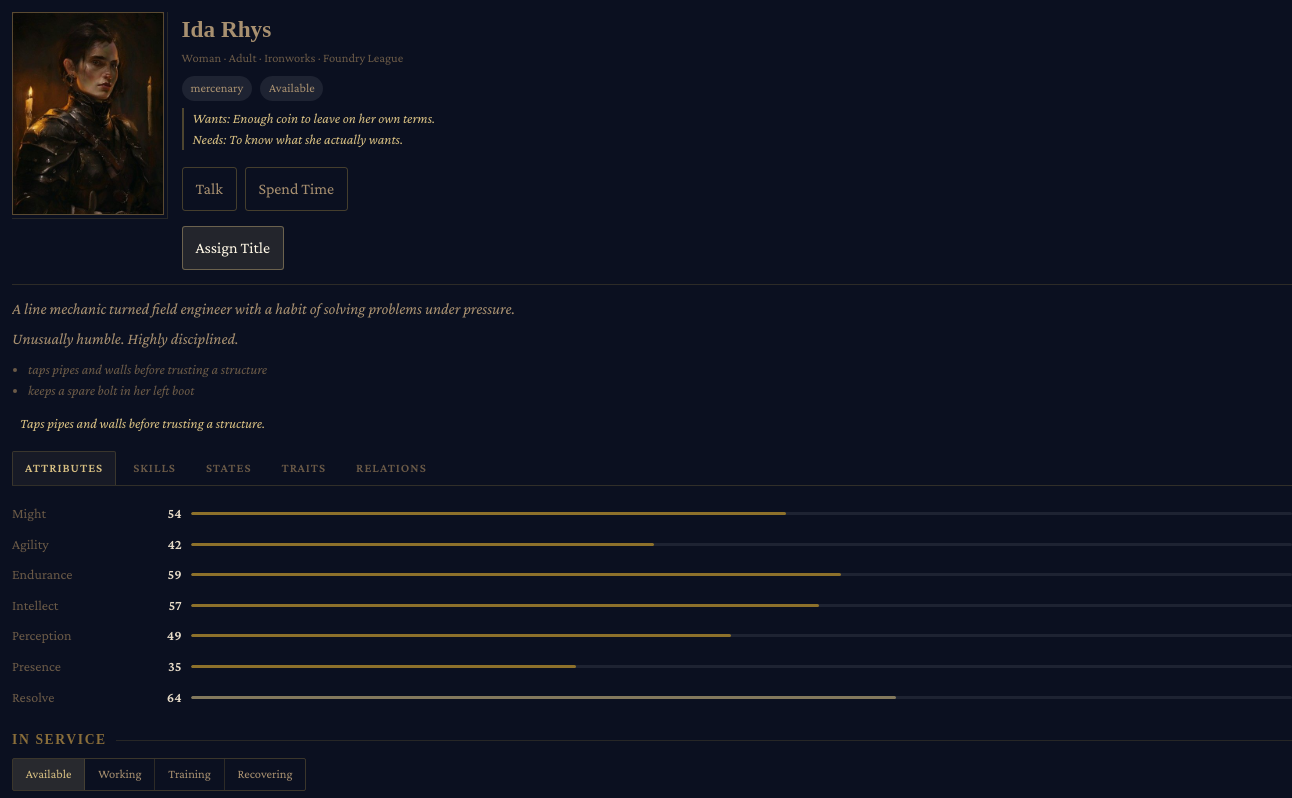
Test: NpcDetailPanel — courtship loop › reveals conversation and activity actions only after choosing Talk or Spend Time
Expected: the button "Talk Deeply" is not shown
Expected: the button "Court" is not shown
Click the button "Talk" at (209, 189), box x1=182 y1=167 x2=237 y2=211
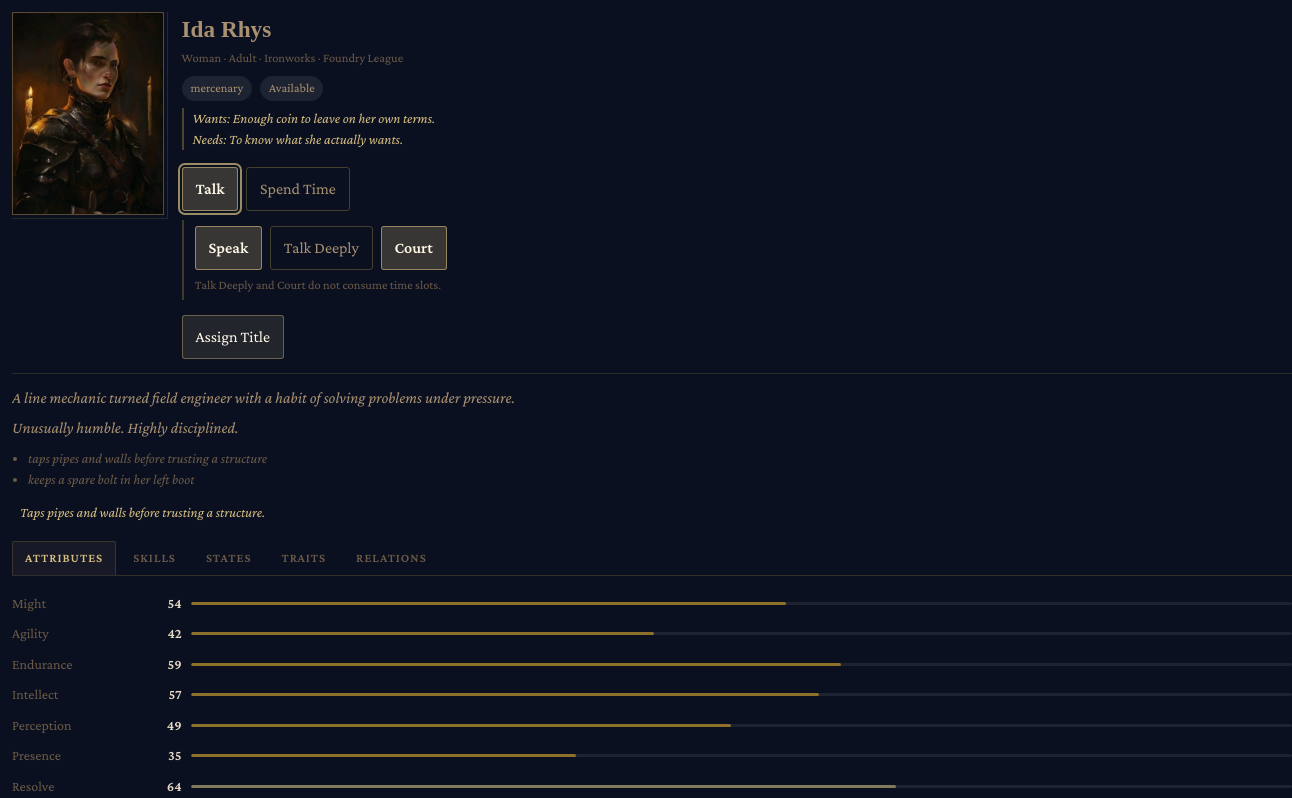
Result: the button "Speak" is shown at x1=195 y1=226 x2=262 y2=270
Result: the button "Talk Deeply" is shown at x1=270 y1=226 x2=373 y2=270
Result: the button "Court" is shown at x1=381 y1=226 x2=447 y2=270
Click the button "Spend Time" at (298, 189), box x1=246 y1=167 x2=350 y2=211
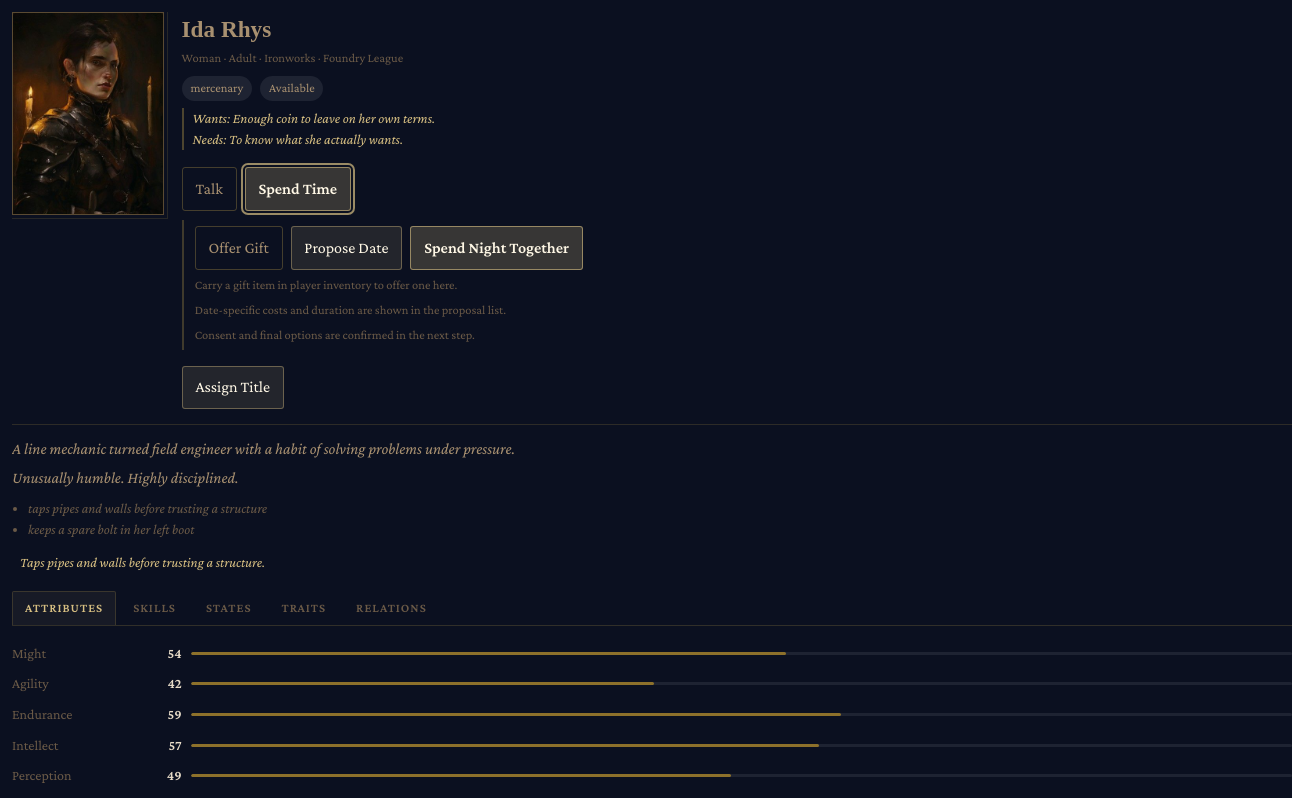
Result: the button "Offer Gift" is shown at x1=195 y1=226 x2=283 y2=270
Result: the button "Propose Date" is shown at x1=290 y1=226 x2=402 y2=270
Result: the button "Spend Night Together" is shown at x1=410 y1=226 x2=583 y2=270
